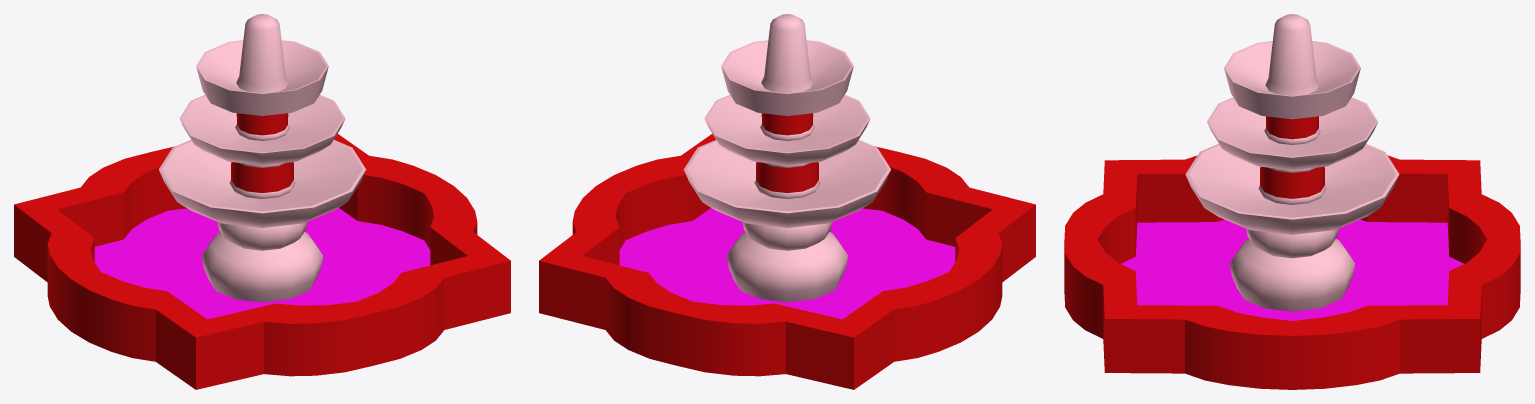
The model's file is Fountain.fbx.
The picture shows the model from 3 angles, left to right: view 1: azimuth 30°, elevation 25°; view 2: azimuth 150°, elevation 25°; view 3: azimuth 270°, elevation 25°; orthographic projection. The views are drawn at different scales.
Visible parts, largest first — view 1: Fountain; view 2: Fountain; view 3: Fountain.
Boxes of the visible parts, x1=… form: Fountain: x1=14, y1=14, x2=510, y2=389; Fountain: x1=539, y1=14, x2=1035, y2=389; Fountain: x1=1064, y1=14, x2=1520, y2=389.
Bounding box in the file's own units: 750 × 500 × 750.
